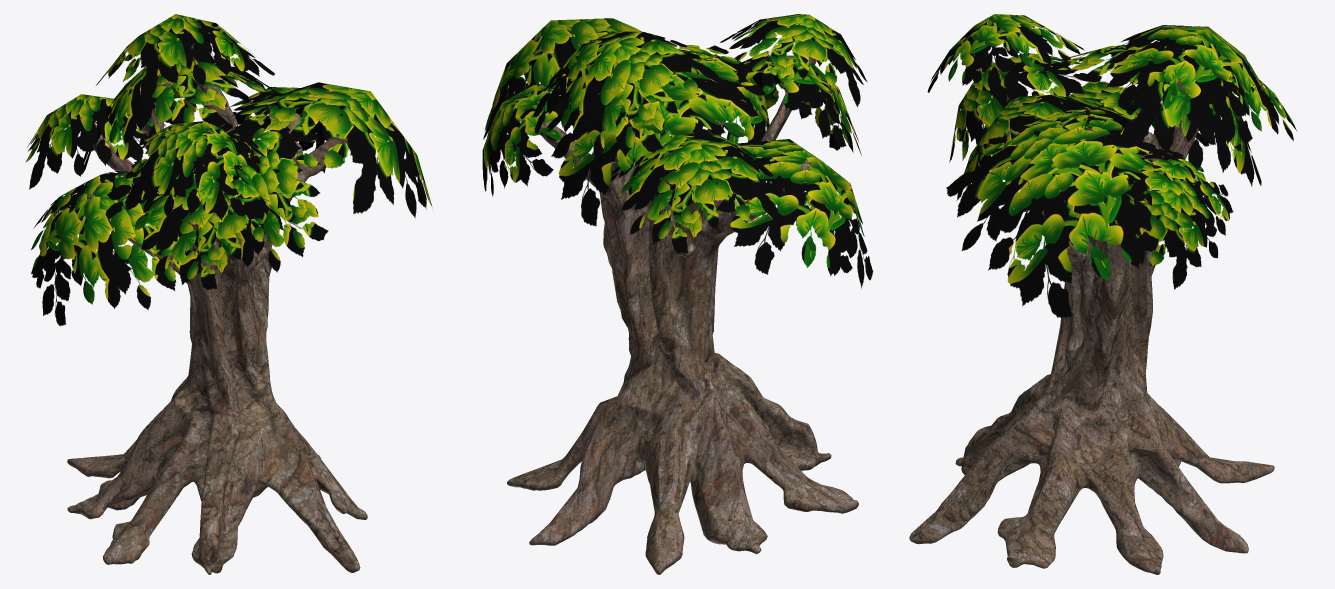
File: newtreeworldm.glb
3 renders of one model, left to right at view 1: azimuth 30°, elevation 25°; view 2: azimuth 150°, elevation 25°; view 3: azimuth 270°, elevation 25°, orthographic. The views are drawn at different scales.
Visible parts, largest first — view 1: BézierCurve.035, leaves.003, leaves.009, leaves.001, leaves.007, leaves.004, leaves.006, leaves.008, leaves.002, leaves.005; view 2: BézierCurve.035, leaves.008, leaves.003, leaves.006, leaves.002, leaves.007, leaves.009, leaves.005, leaves.001, leaves.004; view 3: BézierCurve.035, leaves.009, leaves.008, leaves.005, leaves.006, leaves.007, leaves.001, leaves.004, leaves.002, leaves.003.
Boxes of the visible parts, box(x1,y1,x2,y2) form: BézierCurve.035: box(67, 39, 367, 574); leaves.003: box(31, 171, 200, 325); leaves.009: box(230, 82, 431, 218); leaves.001: box(105, 153, 283, 290); leaves.007: box(124, 121, 266, 220); leaves.004: box(174, 123, 328, 272); leaves.006: box(82, 54, 285, 174); leaves.008: box(96, 14, 274, 102); leaves.002: box(25, 94, 165, 189); leaves.005: box(230, 87, 350, 172); BézierCurve.035: box(507, 38, 858, 574); leaves.008: box(532, 31, 724, 158); leaves.003: box(716, 139, 873, 288); leaves.006: box(547, 45, 766, 226); leaves.002: box(610, 132, 779, 253); leaves.007: box(720, 14, 866, 107); leaves.009: box(483, 18, 659, 151); leaves.005: box(482, 84, 572, 196); leaves.001: box(720, 55, 861, 155); leaves.004: box(673, 49, 772, 182); BézierCurve.035: box(909, 43, 1274, 574); leaves.009: box(946, 107, 1185, 318); leaves.008: box(1104, 25, 1272, 144); leaves.005: box(1094, 142, 1233, 289); leaves.006: box(1049, 43, 1261, 186); leaves.007: box(927, 14, 1084, 95); leaves.001: box(949, 53, 1101, 178); leaves.004: box(956, 94, 1130, 200); leaves.002: box(1126, 57, 1296, 152); leaves.003: box(1005, 81, 1209, 168).
Bounding box in the file's own units: 11.25 × 13.22 × 10.01.
Materials: 2 (2 with a texture image).
